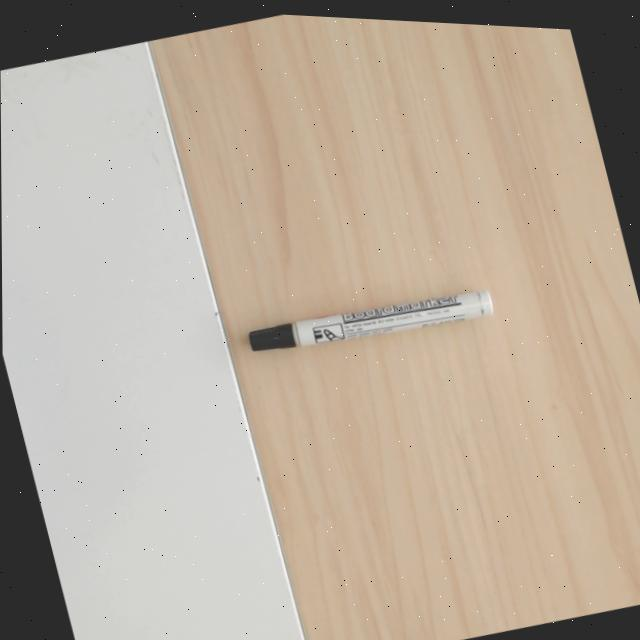Marker-Pen: (246, 288, 494, 355)
